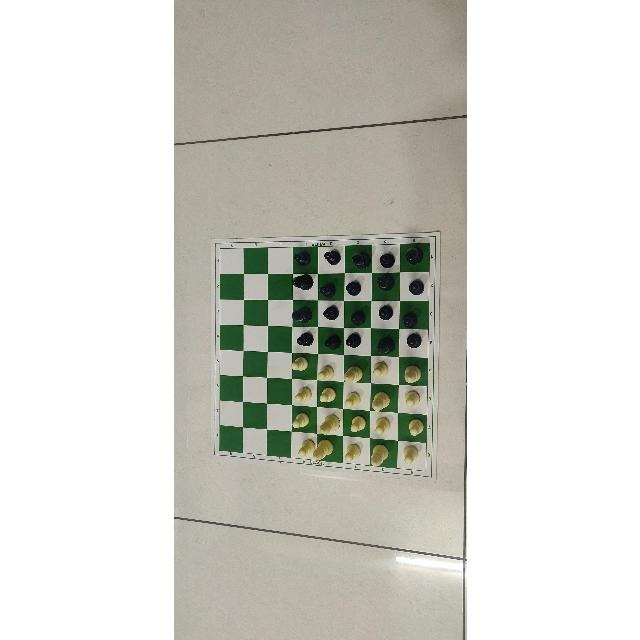black-bishop: (374, 272, 396, 295), (374, 335, 396, 357), (290, 273, 312, 293), (403, 245, 423, 267), (349, 251, 371, 270), (290, 306, 312, 324)
black-pawn: (402, 276, 426, 298), (320, 248, 342, 268), (403, 331, 425, 351), (293, 248, 313, 269), (399, 309, 421, 328), (376, 250, 396, 269), (348, 308, 368, 327), (293, 329, 314, 347), (376, 303, 394, 323), (319, 305, 339, 323), (321, 332, 341, 350), (344, 331, 364, 349), (318, 283, 339, 298), (345, 280, 362, 298)
white-bishop: (366, 442, 389, 467), (311, 437, 333, 461), (368, 390, 392, 412), (400, 363, 424, 385), (341, 363, 362, 384), (318, 413, 340, 433)
white-pawn: (400, 389, 424, 411), (342, 387, 365, 408), (371, 415, 392, 436), (405, 416, 425, 438), (401, 443, 421, 465), (342, 443, 363, 463), (290, 355, 310, 375), (291, 412, 311, 432), (346, 414, 366, 434), (316, 363, 336, 381), (317, 386, 337, 404), (370, 359, 387, 378), (295, 438, 312, 457), (293, 387, 313, 403)
